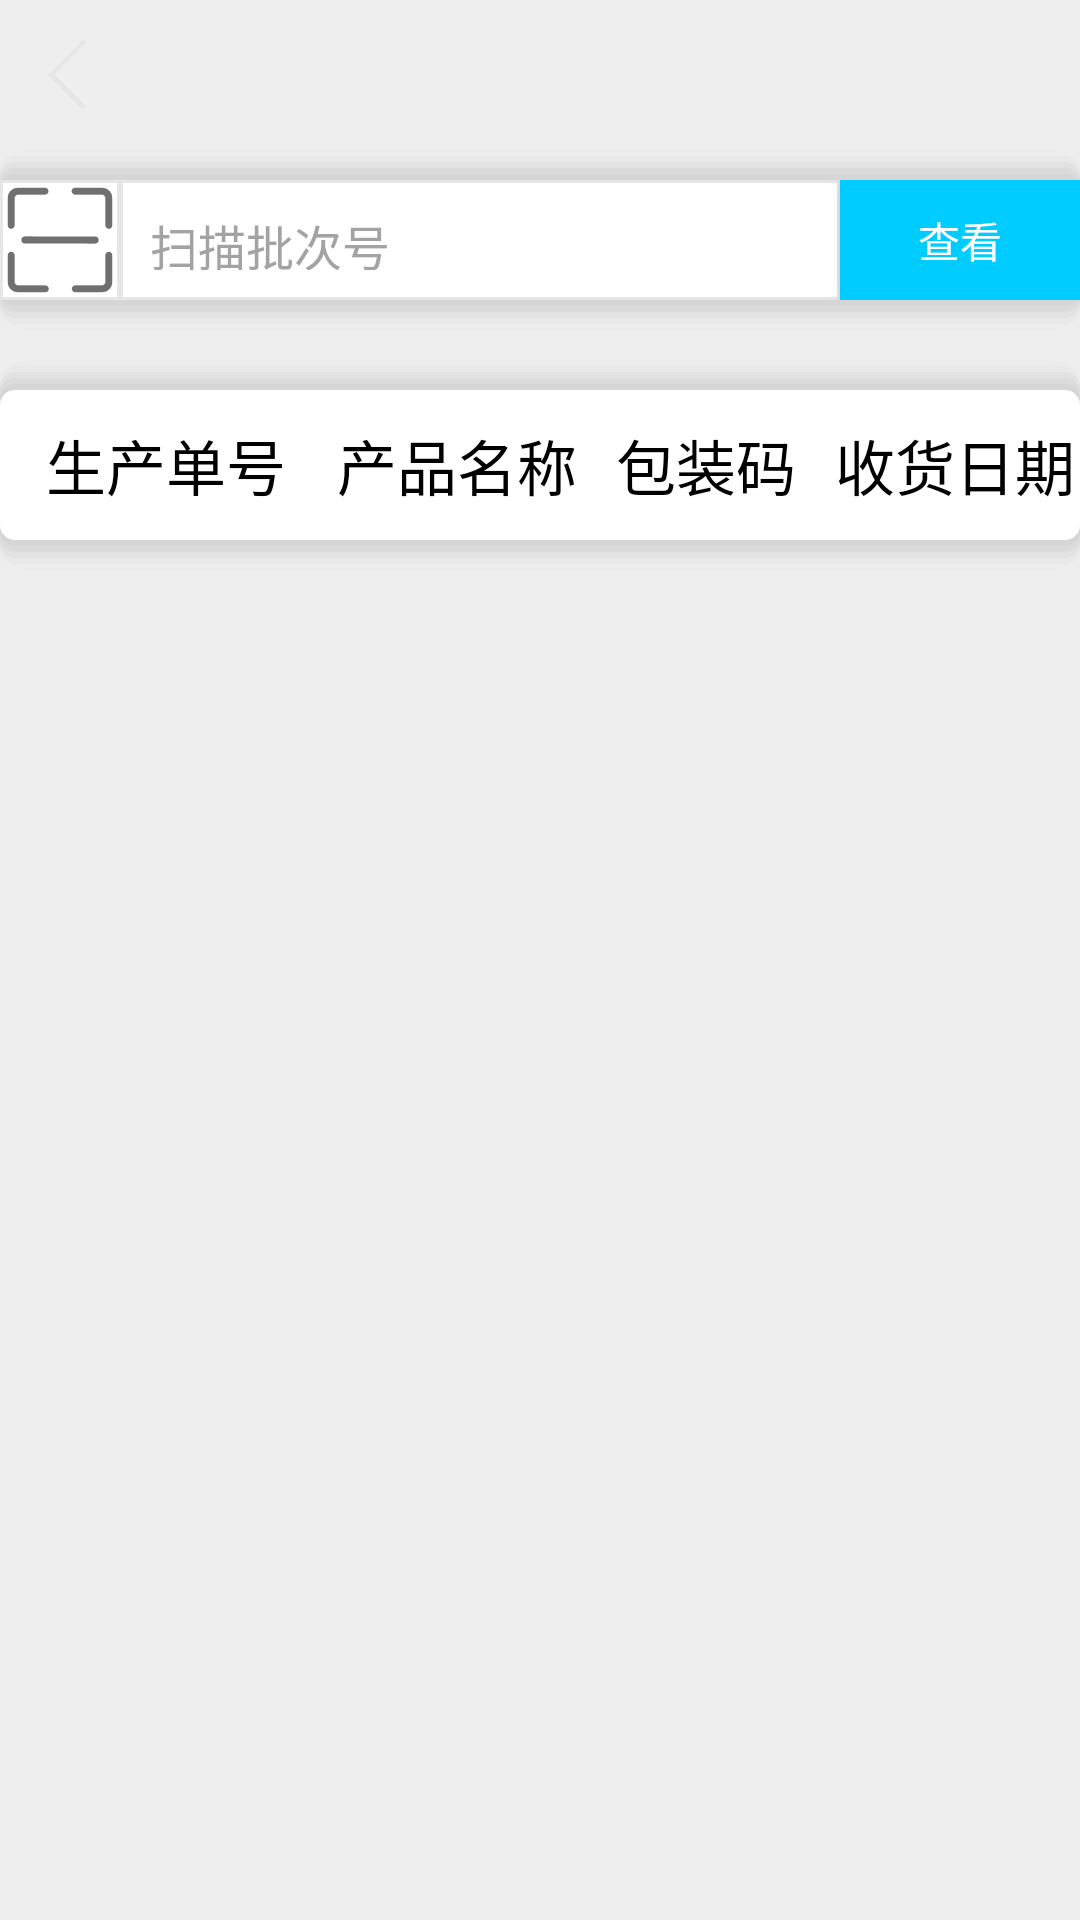

Icons on this 1080 × 1920 Android screen, each with the point to tap as (x=x, y=y):
camera scan: (x=60, y=240)
